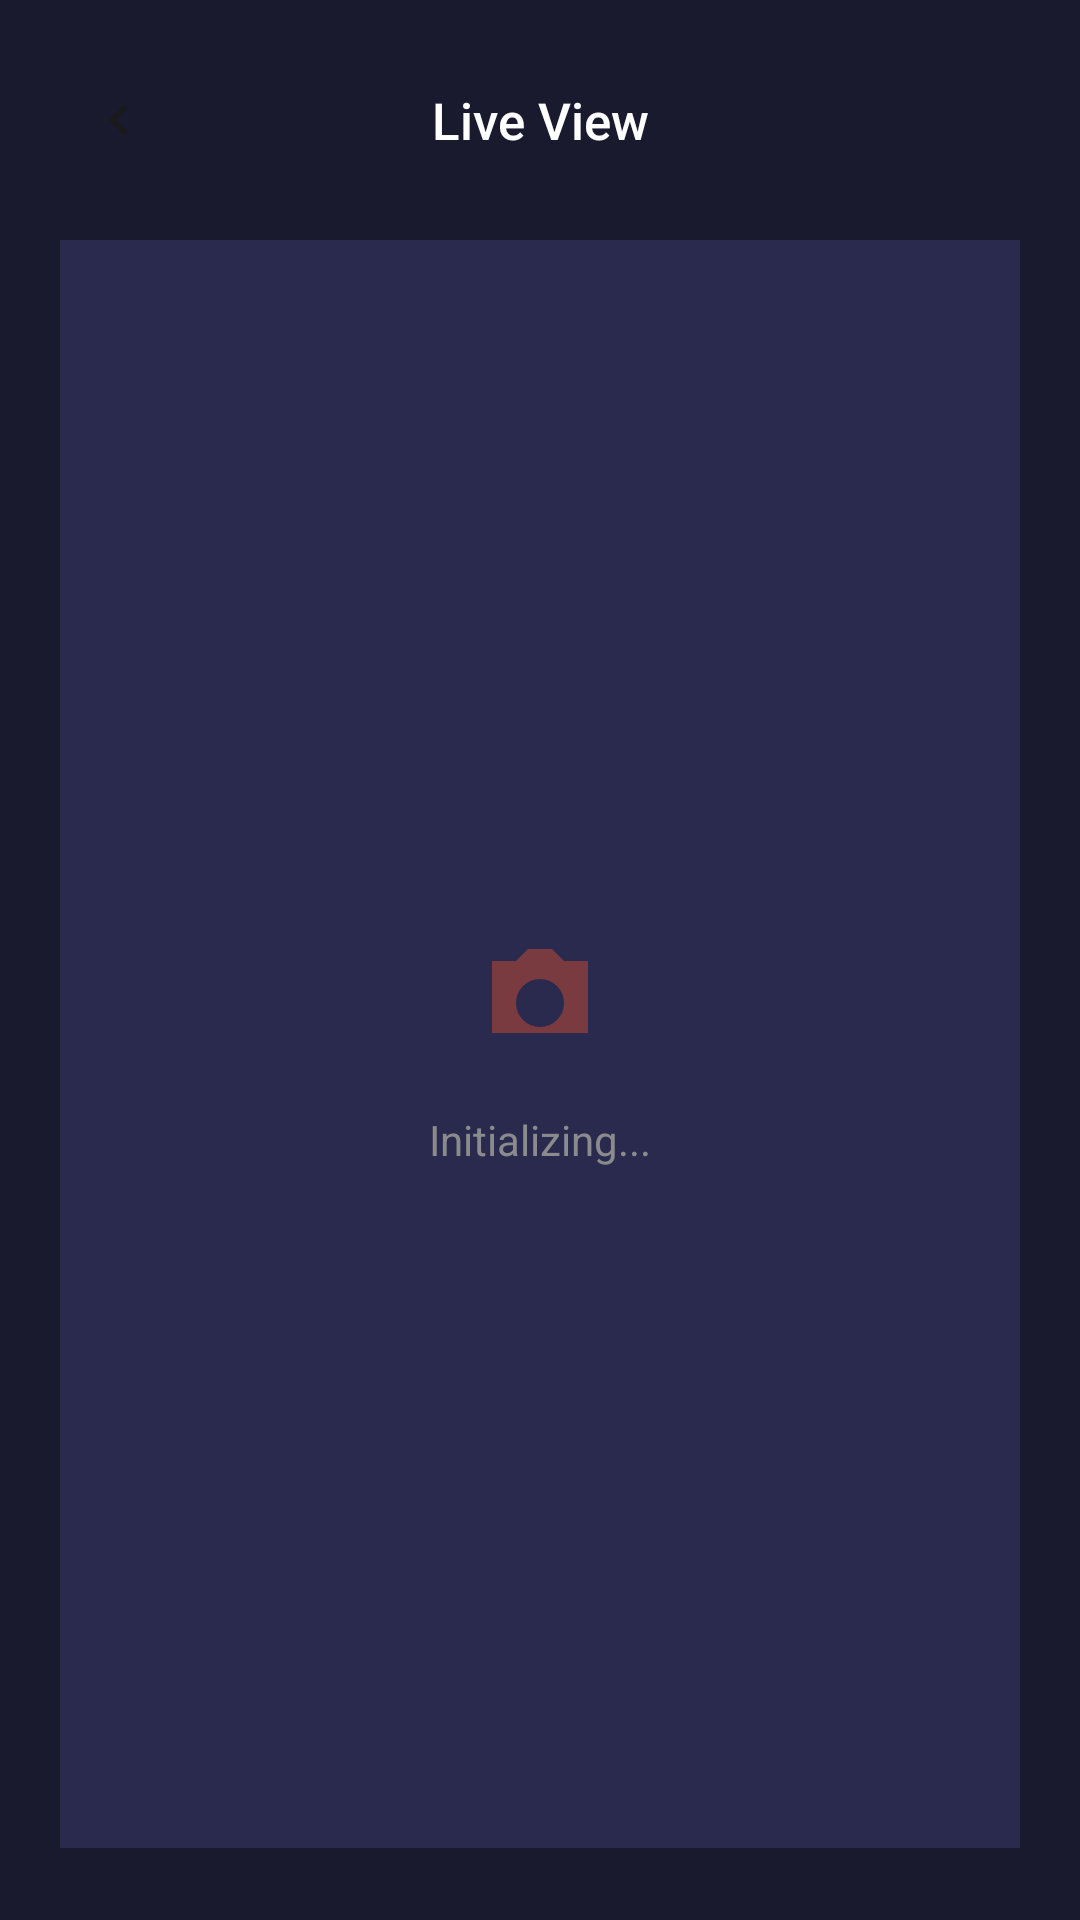

Icon click points for this 1080px×1920px phone screenshot, format point (x, y):
camera: point (540, 991)
